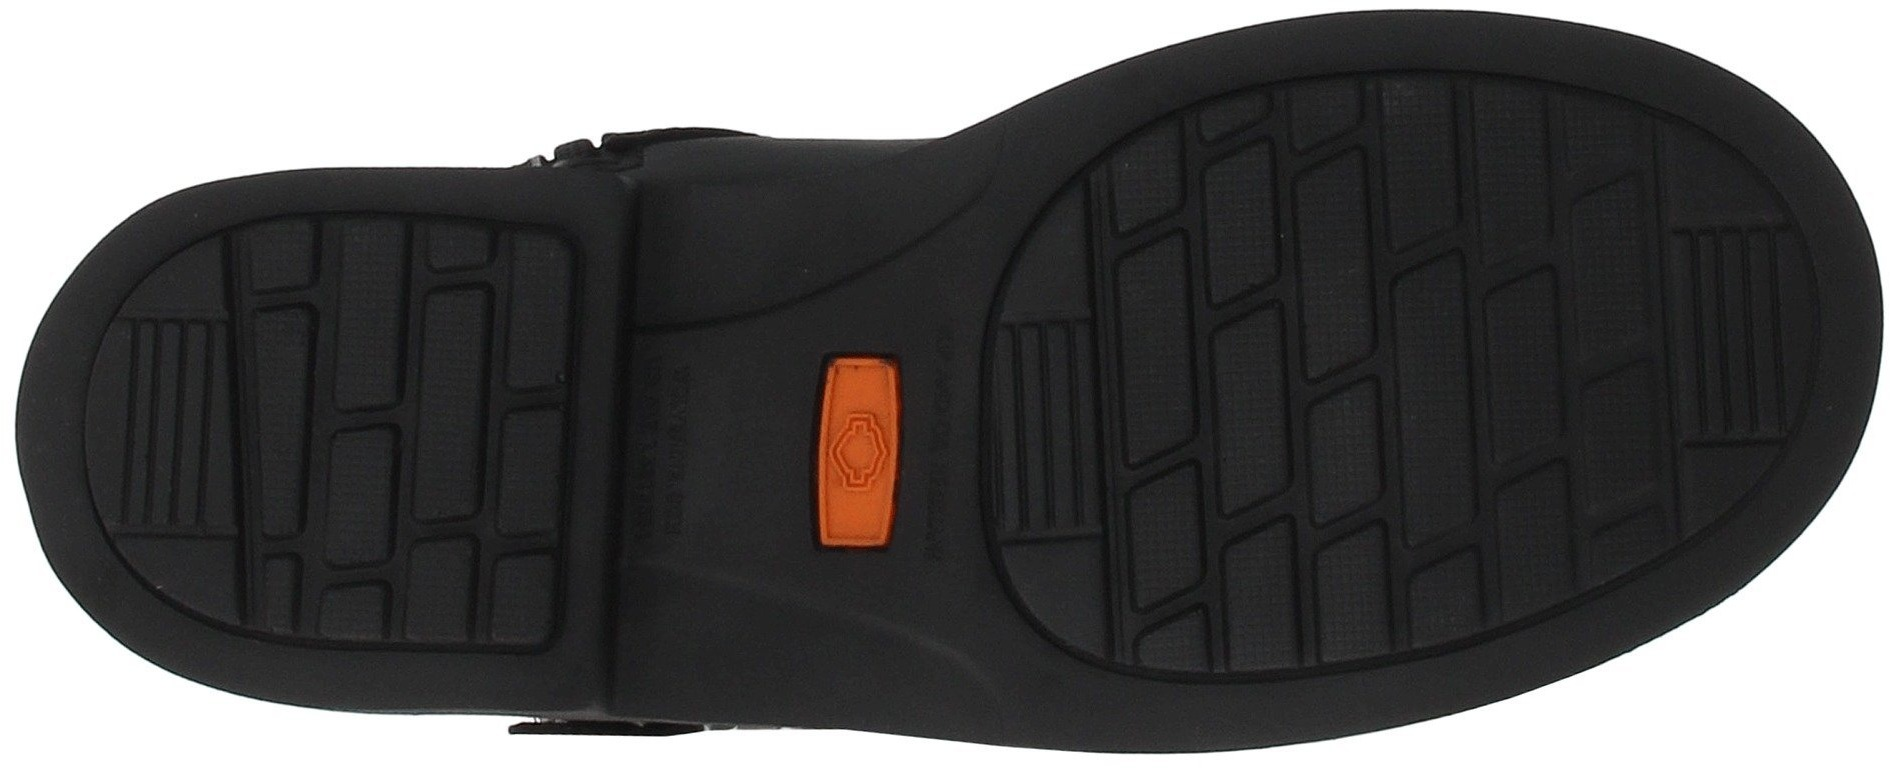quad: (1121, 154, 1438, 479), (243, 256, 534, 532), (1450, 137, 1663, 360)
